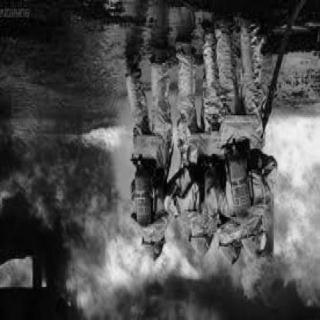Fire: (0, 110, 318, 320)
